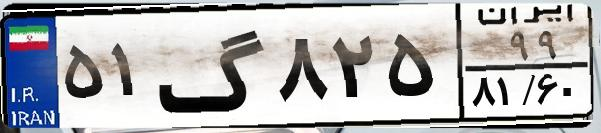0: (560, 70, 590, 125)
1: (110, 28, 156, 98), (495, 70, 520, 125)
2: (330, 28, 385, 110)
5: (385, 28, 445, 110), (57, 26, 110, 100)
6: (535, 70, 560, 125)
8: (270, 28, 330, 110), (470, 70, 495, 125)
9: (537, 27, 568, 80), (508, 27, 537, 80)
گ: (156, 12, 270, 120)
